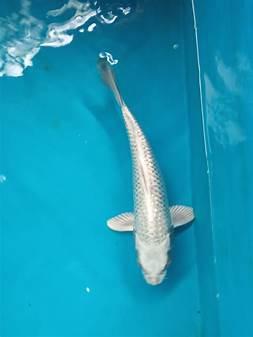white: (95, 57, 192, 286)
